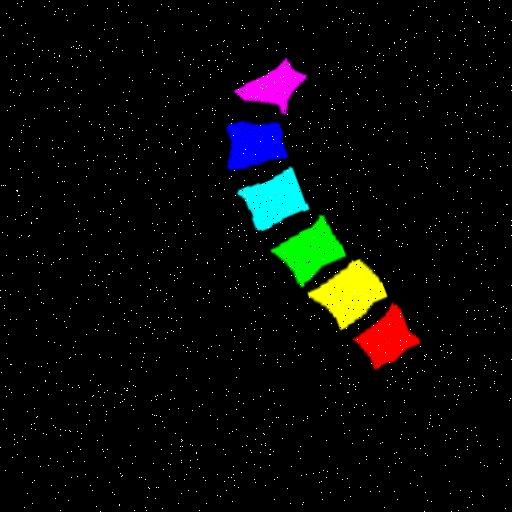L1: (355, 306, 422, 371)
L2: (308, 261, 389, 330)
L3: (272, 216, 346, 287)
L4: (238, 168, 308, 230)
L5: (227, 122, 287, 168)
S1: (235, 61, 305, 114)
